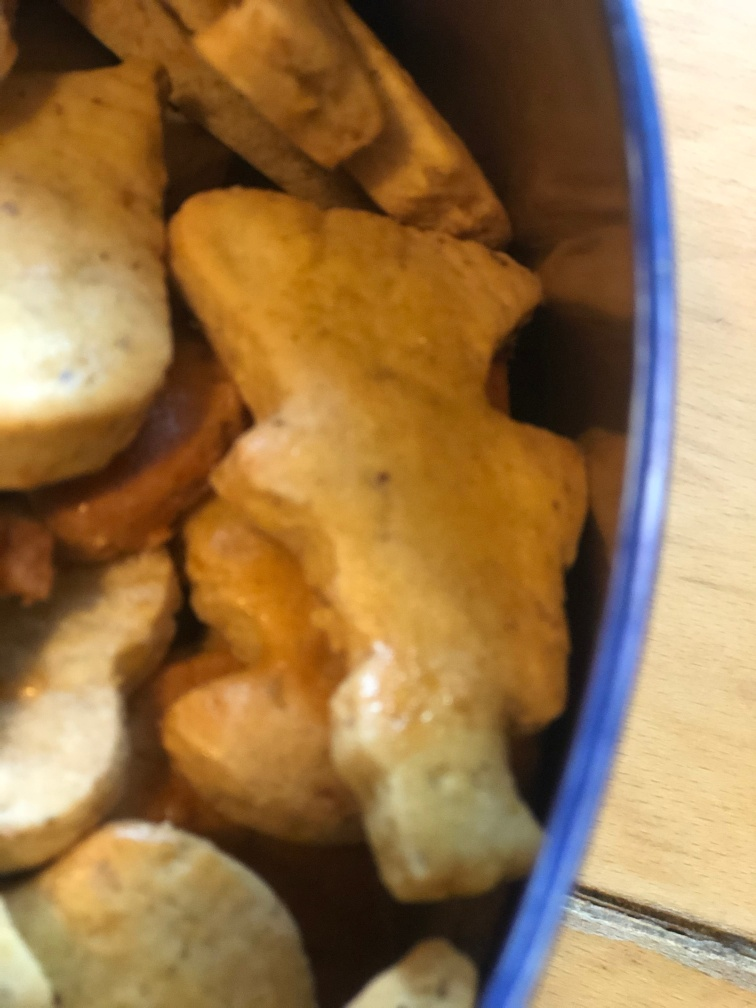king mage: (167, 186, 588, 902)
